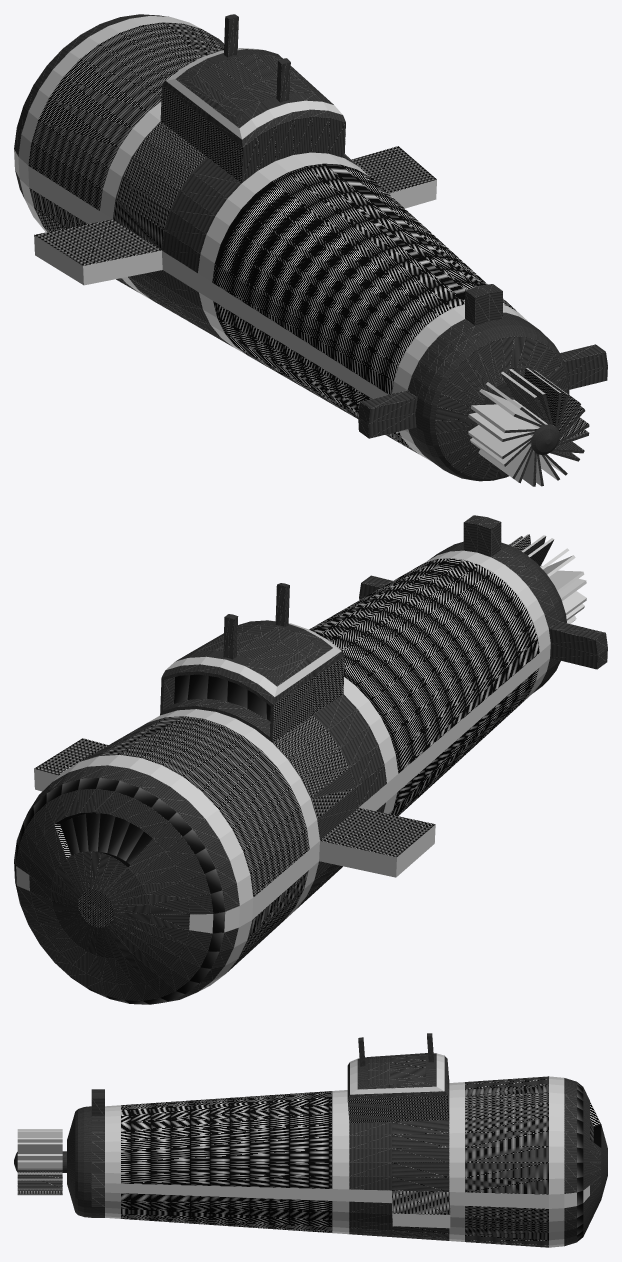
The model's file is BLACK_Submarine.fbx.
The picture shows the model from 3 angles, top to bottom: view 1: azimuth 30°, elevation 25°; view 2: azimuth 150°, elevation 25°; view 3: azimuth 270°, elevation 25°; orthographic projection. The views are drawn at different scales.
Visible parts, largest first — view 1: Cylinder; view 2: Cylinder; view 3: Cylinder.
Boxes of the visible parts, bbox=[...] form: Cylinder: bbox=[14, 14, 607, 486]; Cylinder: bbox=[14, 515, 607, 1004]; Cylinder: bbox=[14, 1033, 607, 1247].
Size of the model in its own units: 322 by 264 by 693.
